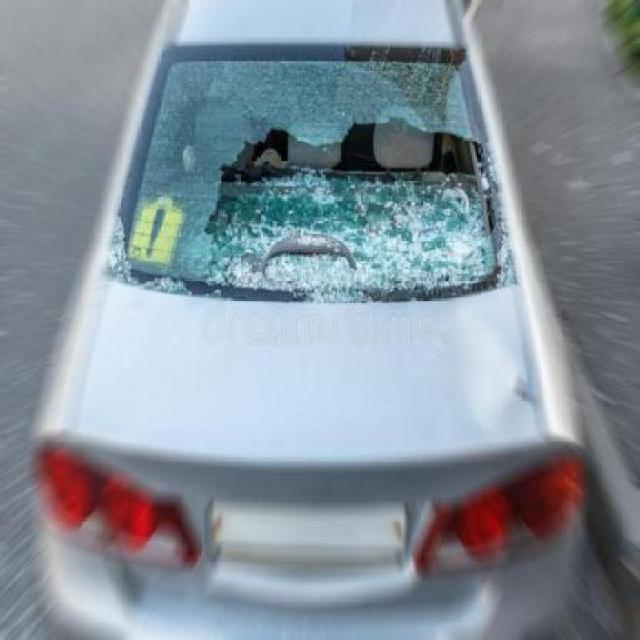Rear-windscreen-Damage: (194, 94, 501, 308)
